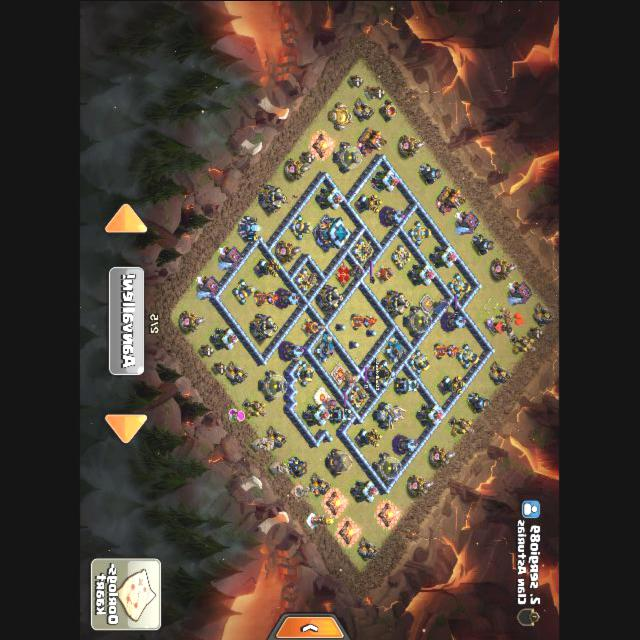AD: (254, 258, 283, 278), (438, 375, 467, 394), (355, 193, 384, 212), (355, 428, 384, 447)
AirSweeper: (301, 318, 326, 336), (376, 265, 396, 283)
BombTower: (330, 407, 356, 423), (395, 377, 420, 393)
Canon: (290, 214, 313, 240), (448, 273, 471, 299), (409, 220, 432, 246), (233, 279, 256, 304), (295, 361, 317, 387), (458, 343, 480, 369), (410, 349, 432, 375)
ClanCastle: (366, 359, 398, 387)
Eagle: (374, 401, 408, 428)
Inferno: (255, 290, 281, 306), (434, 343, 460, 359), (351, 313, 377, 329)
KingPad: (331, 363, 348, 385)
Mortar: (468, 391, 491, 413), (420, 163, 443, 185), (473, 233, 495, 255), (288, 456, 308, 478)
QueenPad: (336, 262, 353, 286)
RcPad: (421, 293, 435, 312)
Scattershot: (313, 333, 336, 362), (384, 334, 408, 361)
TH13: (314, 217, 353, 249)
WardenPad: (315, 386, 330, 407)
WizzTower: (279, 341, 305, 360), (442, 312, 468, 331), (393, 435, 419, 454), (380, 206, 406, 225), (275, 289, 301, 307)
Xbow: (295, 267, 319, 292), (352, 238, 374, 263), (348, 384, 370, 409), (392, 244, 412, 269)
